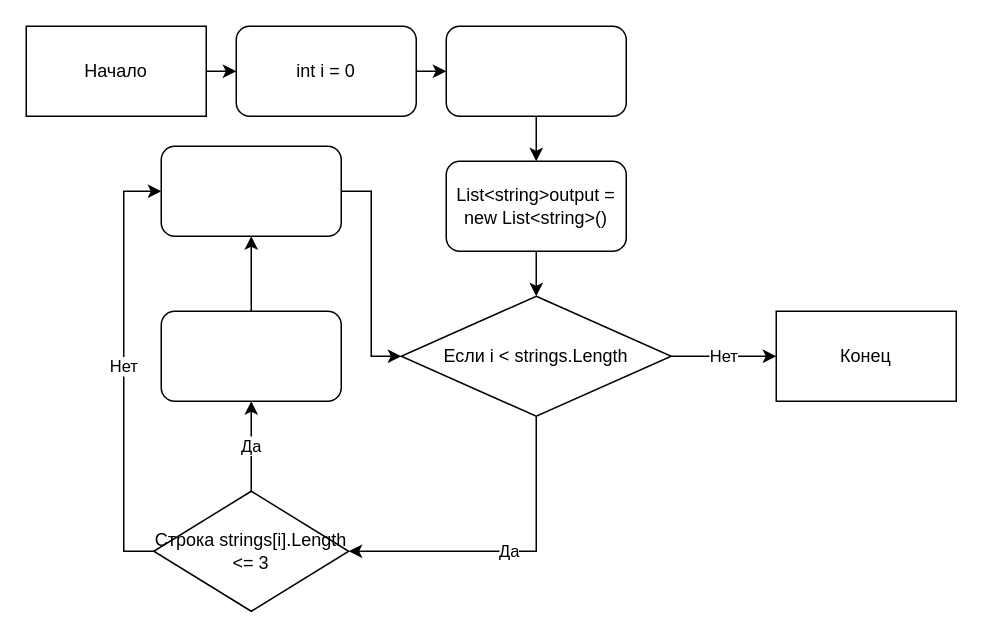
This 983x638 diagram has some shape labels left out. Each missing label, with the centre of its shape:
i = i + 1: (250,190)
output.Add(strings[i]): (250,355)
string[] strings = new string[3]: (535,70)
